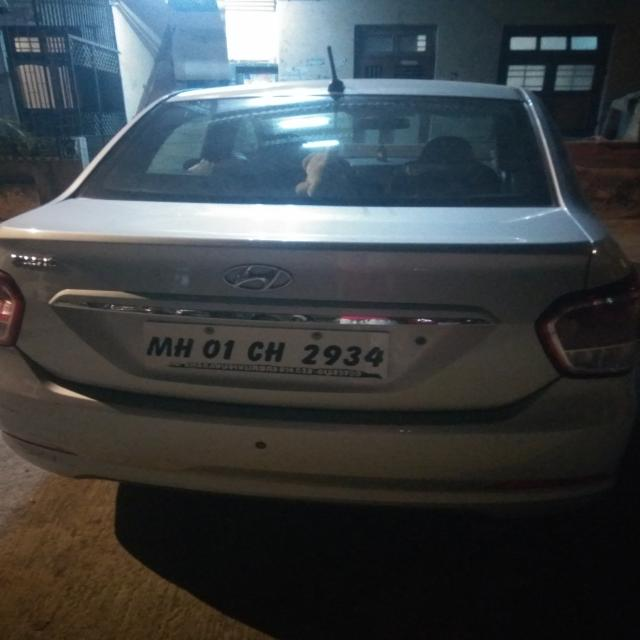Number-Plate: (150, 322, 394, 374)
